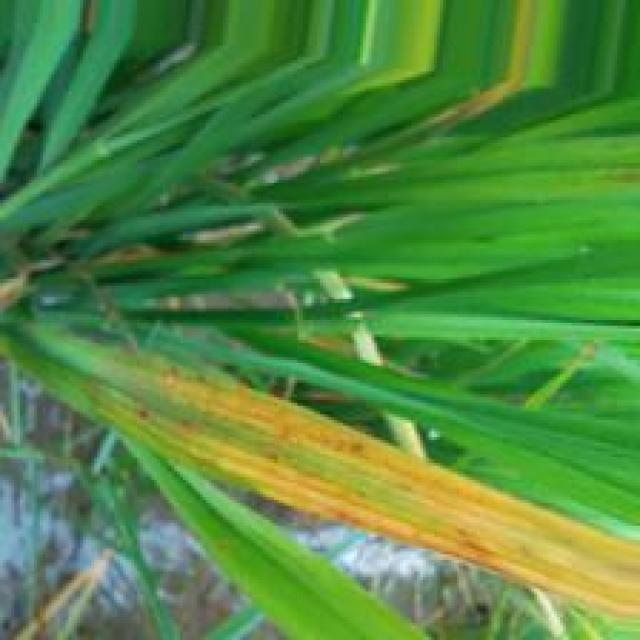Bacterial_Leaf_Blight: (163, 356, 635, 617)
